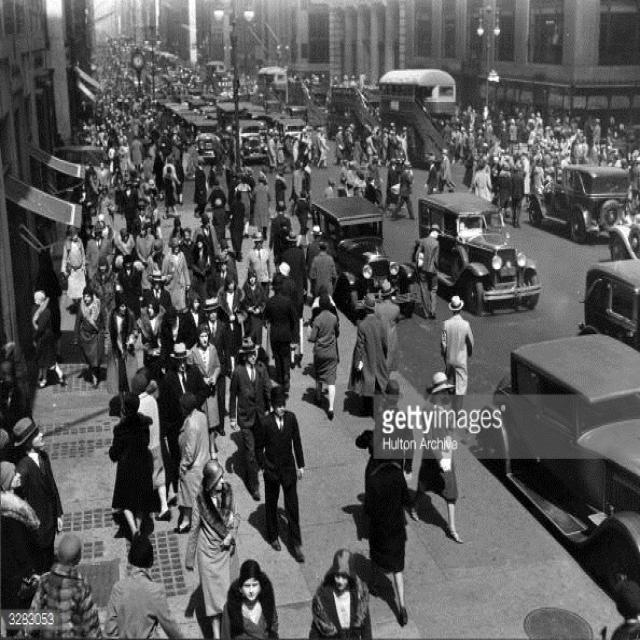body: (68, 37, 640, 218), (408, 369, 464, 546), (182, 458, 237, 638), (252, 385, 307, 565), (362, 457, 418, 629), (101, 530, 186, 638), (8, 415, 64, 578), (25, 530, 104, 638), (0, 458, 43, 638), (227, 334, 273, 501), (108, 392, 156, 551), (160, 340, 202, 502), (130, 371, 172, 522), (307, 545, 374, 639), (174, 391, 212, 539), (184, 324, 223, 463), (436, 293, 476, 428), (220, 556, 280, 640), (260, 270, 300, 395), (304, 292, 339, 422), (351, 292, 392, 399), (372, 378, 415, 476), (29, 286, 68, 388), (71, 286, 106, 387), (214, 270, 246, 376), (0, 330, 26, 457), (108, 296, 138, 396), (128, 297, 168, 371), (279, 230, 309, 326), (373, 279, 402, 375), (600, 572, 640, 640), (146, 269, 177, 355), (59, 222, 88, 313), (414, 221, 441, 318), (160, 234, 192, 312), (240, 265, 267, 348), (304, 224, 327, 310), (267, 198, 292, 274), (134, 221, 156, 303), (190, 235, 212, 317), (116, 253, 142, 320), (310, 240, 340, 298), (85, 221, 113, 280), (182, 290, 209, 351), (389, 160, 415, 219), (248, 231, 271, 296), (144, 238, 174, 287), (251, 167, 270, 242), (119, 180, 141, 243), (227, 190, 246, 262), (381, 157, 403, 218), (233, 176, 252, 239), (90, 255, 118, 296), (470, 157, 494, 204), (275, 261, 298, 310), (510, 161, 526, 228), (192, 153, 208, 219), (294, 190, 312, 248), (209, 252, 231, 299), (161, 164, 181, 214), (321, 176, 337, 237), (178, 228, 197, 279), (498, 162, 512, 230), (212, 195, 228, 252), (437, 147, 456, 194), (310, 282, 338, 311), (290, 160, 304, 217), (207, 159, 221, 215), (168, 216, 188, 253), (274, 166, 288, 212), (198, 214, 214, 253), (208, 180, 227, 209), (364, 174, 380, 205), (426, 160, 440, 195), (300, 166, 310, 204), (335, 174, 350, 197), (218, 236, 230, 258), (118, 227, 130, 245)
